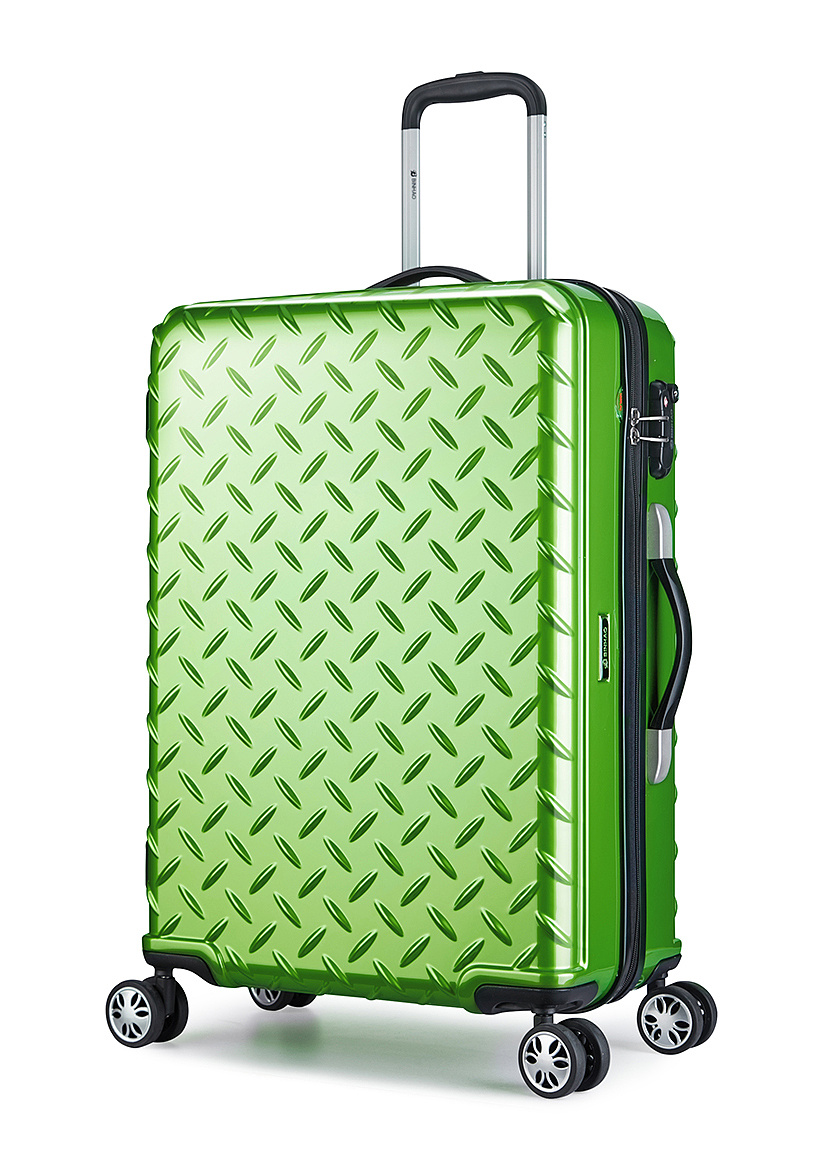luggage: (107, 71, 716, 1098)
